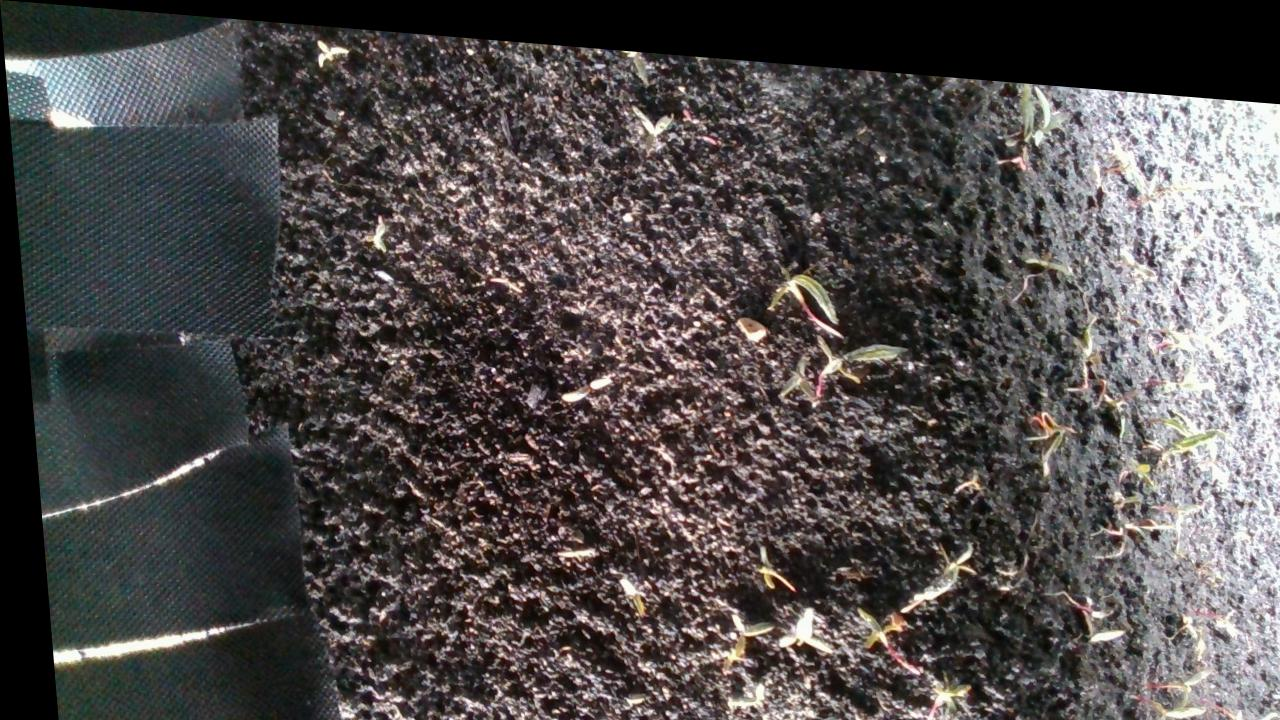weed: (1019, 388, 1076, 451), (556, 359, 625, 401), (626, 95, 671, 142), (361, 211, 393, 247)
